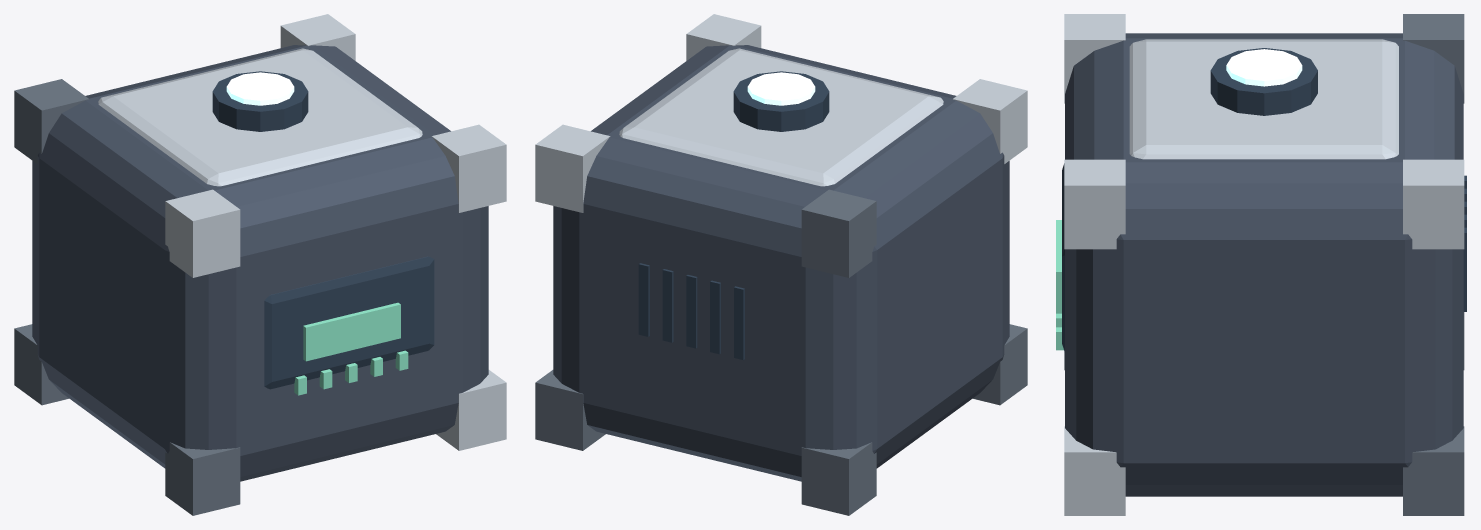
The model's file is box_repair_detail.glb.
3 views of the same model, side by side, from view 1: azimuth 30°, elevation 25°; view 2: azimuth 150°, elevation 25°; view 3: azimuth 270°, elevation 25° (orthographic). The views are drawn at different scales.
Parts seen in each view (by area): view 1: sci_fi_chassis, reinforced_lid, front_interface_armor, outer_corner_joint_011, outer_corner_joint_010, outer_corner_joint_111, front_hologram_window, outer_corner_joint_110, outer_corner_joint_001, top_lock, outer_corner_joint_000, outer_corner_joint_101 (+1 smaller); view 2: sci_fi_chassis, reinforced_lid, outer_corner_joint_001, outer_corner_joint_000, outer_corner_joint_101, outer_corner_joint_100, outer_corner_joint_011, top_lock, outer_corner_joint_010, outer_corner_joint_111, top_lock_energy, rear_heat_vents_0 (+4 smaller); view 3: sci_fi_chassis, reinforced_lid, outer_corner_joint_101, outer_corner_joint_111, outer_corner_joint_100, outer_corner_joint_110, top_lock, outer_corner_joint_001, outer_corner_joint_011, top_lock_energy, front_interface_armor, front_hologram_window.
Boxes of the visible parts, x1,y1,x2,y2 form: sci_fi_chassis: (32, 45, 488, 481); reinforced_lid: (98, 48, 422, 186); front_interface_armor: (264, 256, 434, 389); outer_corner_joint_011: (165, 189, 240, 277); outer_corner_joint_010: (165, 442, 240, 515); outer_corner_joint_111: (431, 124, 506, 212); front_hologram_window: (303, 302, 400, 361); outer_corner_joint_110: (436, 370, 506, 450); outer_corner_joint_001: (14, 79, 89, 163); top_lock: (212, 71, 308, 131); outer_corner_joint_000: (14, 324, 68, 405); outer_corner_joint_101: (280, 14, 355, 60); sci_fi_chassis: (553, 45, 1009, 481); reinforced_lid: (619, 48, 943, 186); outer_corner_joint_001: (801, 189, 876, 277); outer_corner_joint_000: (801, 442, 876, 515); outer_corner_joint_101: (535, 124, 610, 212); outer_corner_joint_100: (535, 370, 605, 450); outer_corner_joint_011: (952, 79, 1027, 163); top_lock: (733, 71, 829, 131); outer_corner_joint_010: (973, 324, 1027, 405); outer_corner_joint_111: (686, 14, 761, 60); top_lock_energy: (747, 72, 815, 105); rear_heat_vents_0: (686, 275, 697, 348); sci_fi_chassis: (1065, 33, 1463, 496); reinforced_lid: (1129, 39, 1398, 159); outer_corner_joint_101: (1403, 159, 1464, 249); outer_corner_joint_111: (1064, 159, 1125, 249); outer_corner_joint_100: (1403, 426, 1464, 515); outer_corner_joint_110: (1064, 426, 1125, 515); top_lock: (1210, 48, 1317, 115); outer_corner_joint_001: (1403, 14, 1464, 103); outer_corner_joint_011: (1064, 14, 1125, 103); top_lock_energy: (1226, 49, 1302, 86); front_interface_armor: (1062, 163, 1064, 352); front_hologram_window: (1056, 220, 1061, 309).
Bounding box in the file's own units: 1.4 × 1.38 × 1.4.
